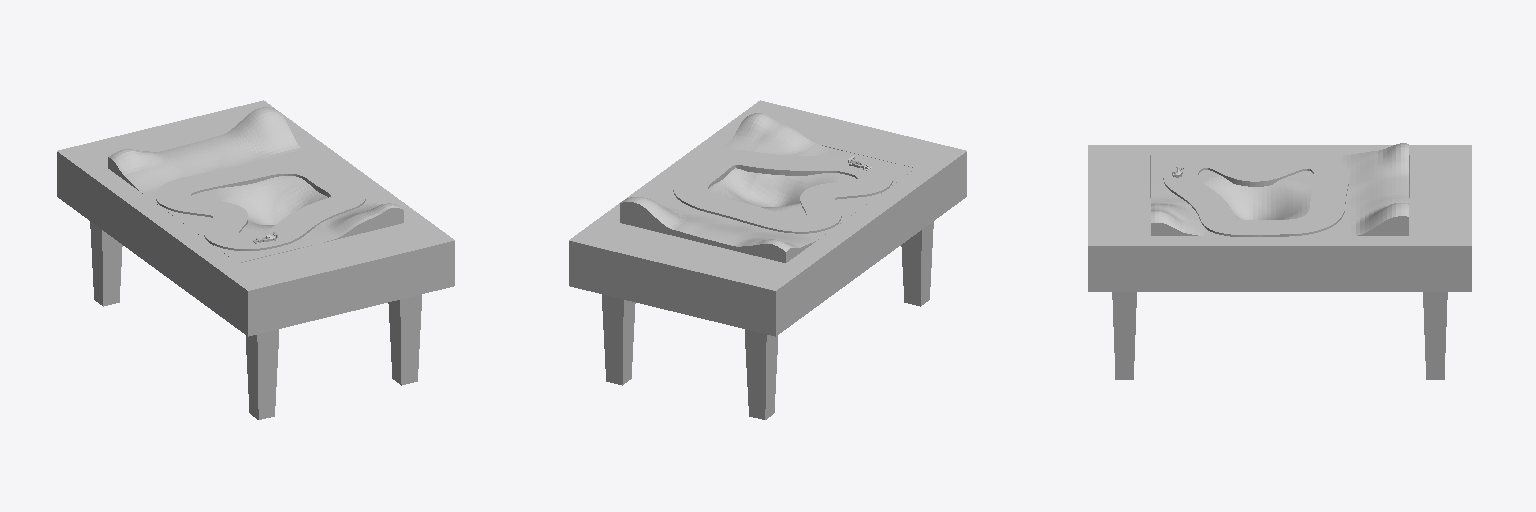
File: NewestTisch58.obj
The picture shows the model from 3 angles: view 1: azimuth 30°, elevation 25°; view 2: azimuth 150°, elevation 25°; view 3: azimuth 270°, elevation 25°; orthographic projection.
Visible parts, largest first — view 1: Tischplatte_wood_table_001, Landschaft_aerial_grass_rock, off, Bein1_wood_table_001, Bein4_wood_table_001.003, Bein3_wood_table_001.002; view 2: Tischplatte_wood_table_001, Landschaft_aerial_grass_rock, off, Bein2_wood_table_001.001, Bein3_wood_table_001.002, Bein4_wood_table_001.003; view 3: Tischplatte_wood_table_001, Landschaft_aerial_grass_rock, off, Bein1_wood_table_001, Bein2_wood_table_001.001.
Part boxes in pixels (left/top/right/bottom): Tischplatte_wood_table_001: left=57, top=100, right=454, bottom=336; Landschaft_aerial_grass_rock: left=108, top=107, right=403, bottom=262; off: left=156, top=159, right=365, bottom=250; Bein1_wood_table_001: left=388, top=294, right=421, bottom=385; Bein4_wood_table_001.003: left=246, top=329, right=278, bottom=419; Bein3_wood_table_001.002: left=90, top=221, right=122, bottom=306; Tischplatte_wood_table_001: left=569, top=100, right=966, bottom=336; Landschaft_aerial_grass_rock: left=620, top=113, right=915, bottom=262; off: left=673, top=150, right=892, bottom=233; Bein2_wood_table_001.001: left=602, top=294, right=635, bottom=385; Bein3_wood_table_001.002: left=745, top=329, right=777, bottom=419; Bein4_wood_table_001.003: left=901, top=221, right=933, bottom=306; Tischplatte_wood_table_001: left=1088, top=145, right=1471, bottom=291; Landschaft_aerial_grass_rock: left=1151, top=143, right=1408, bottom=235; off: left=1163, top=153, right=1348, bottom=236; Bein1_wood_table_001: left=1112, top=292, right=1136, bottom=379; Bein2_wood_table_001.001: left=1423, top=292, right=1447, bottom=379.
Size of the model in its own units: 5 by 3.91 by 8.